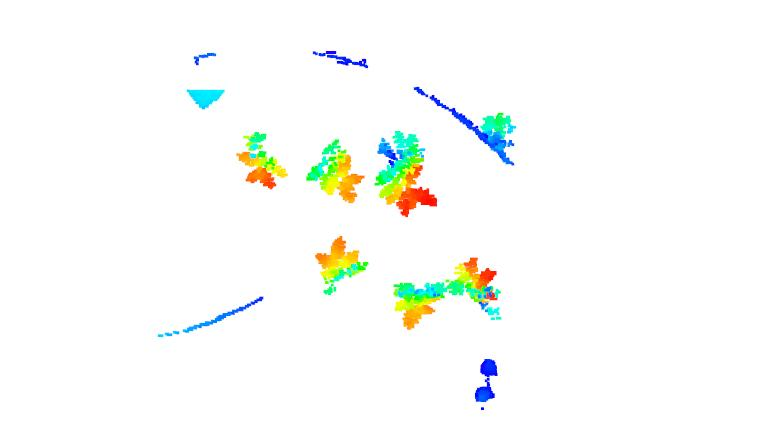chickpea: (372, 130, 439, 218), (304, 136, 364, 205), (450, 255, 505, 323), (313, 234, 371, 298), (232, 129, 288, 189), (391, 280, 449, 331), (479, 109, 516, 144)
